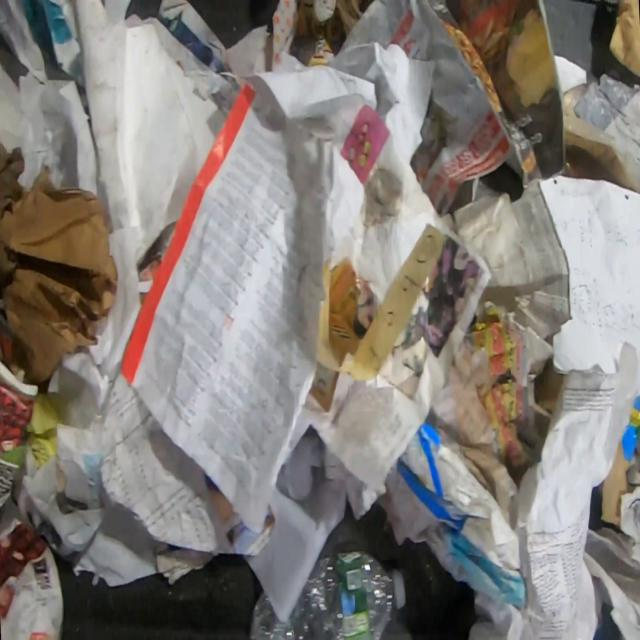cardboard: (0, 140, 118, 386), (599, 394, 640, 530), (608, 0, 640, 81)
rigid_plastic: (249, 549, 408, 639)
